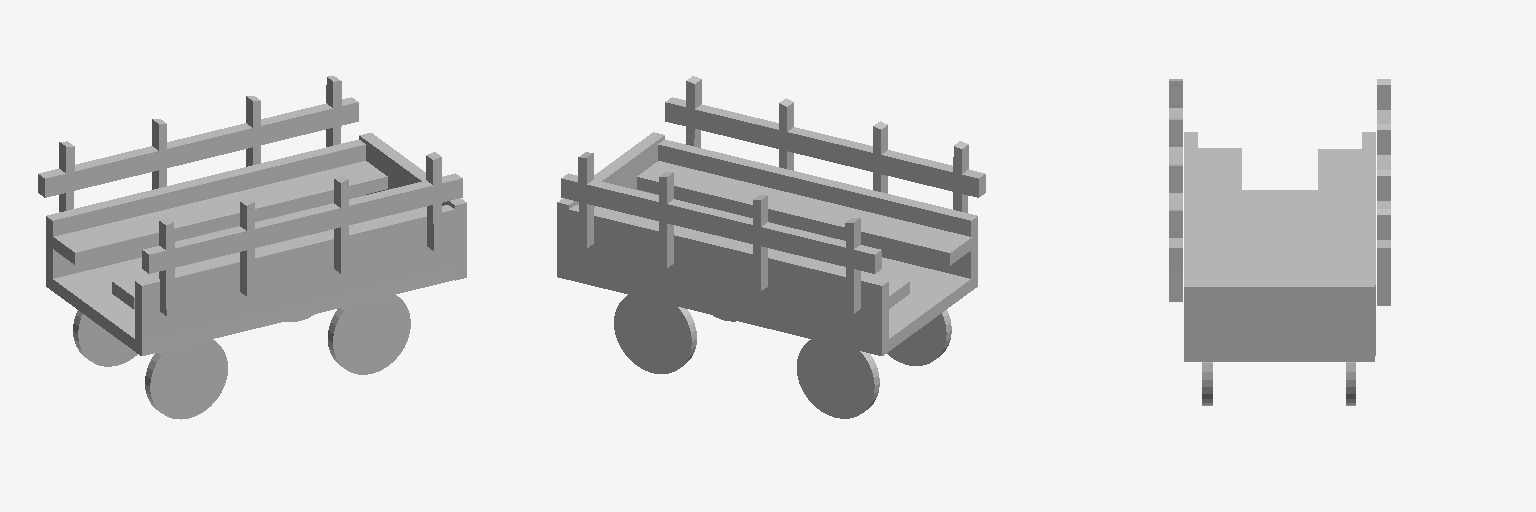
Rendered from cart.obj.
The picture shows the model from 3 angles: view 1: azimuth 30°, elevation 25°; view 2: azimuth 150°, elevation 25°; view 3: azimuth 270°, elevation 25°; orthographic projection.
Parts seen in each view (by area): view 1: Cube; view 2: Cube; view 3: Cube.
Boxes of the visible parts, x1,y1,x2,y2 form: Cube: [38, 76, 466, 419]; Cube: [557, 76, 985, 418]; Cube: [1169, 79, 1390, 405].
Bounding box in the file's own units: 4.17 × 2.65 × 2.46.